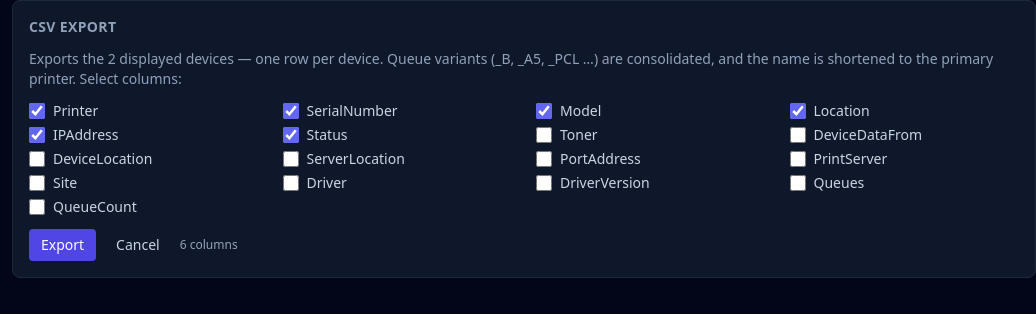
Test: PrintCsvExportCard › owns column selection and exports exactly one row per displayed device
The image size is (1036, 314).
Expected: the text "Exports the 2 displayed devices" is shown, [29, 49, 1019, 89]
Expected: the text "6 columns" is shown, [180, 237, 238, 253]
Click the checkbox labelled "Model". click: (544, 111)
box: [536, 103, 552, 119]
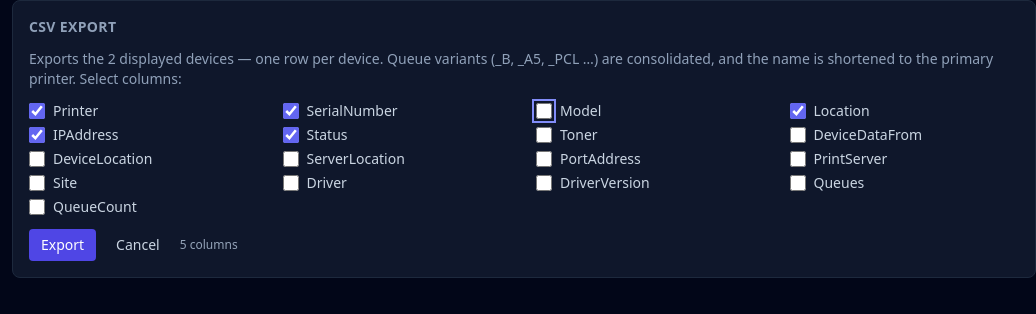
Click the checkbox labelled "Queues". click: (798, 183)
box: [790, 175, 806, 191]
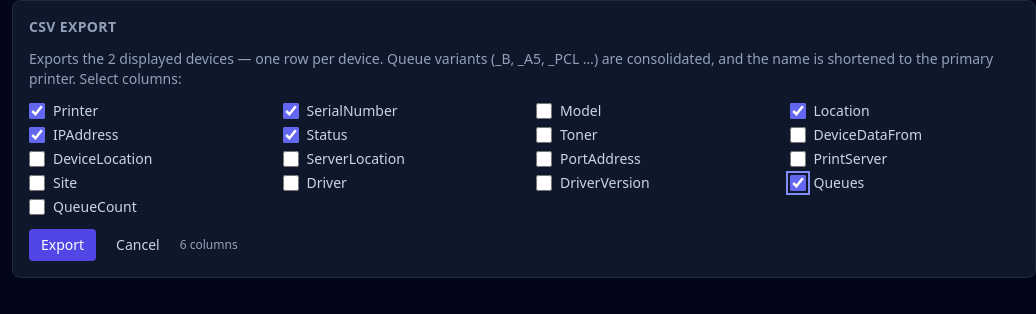
Click the button "Export". click: (63, 245)
box: [29, 229, 96, 261]
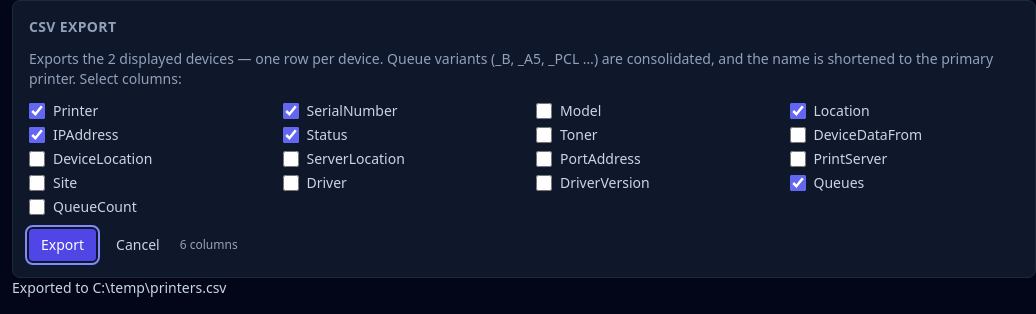
Expected: the text "Exported to C:\\temp\\printers.csv" is shown, [12, 278, 226, 297]
